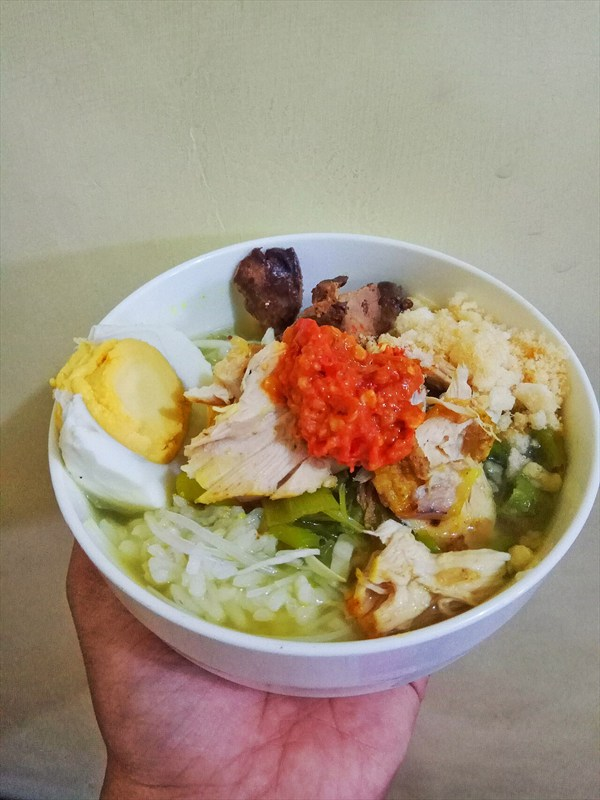Soto Ayam: (84, 245, 557, 655)
